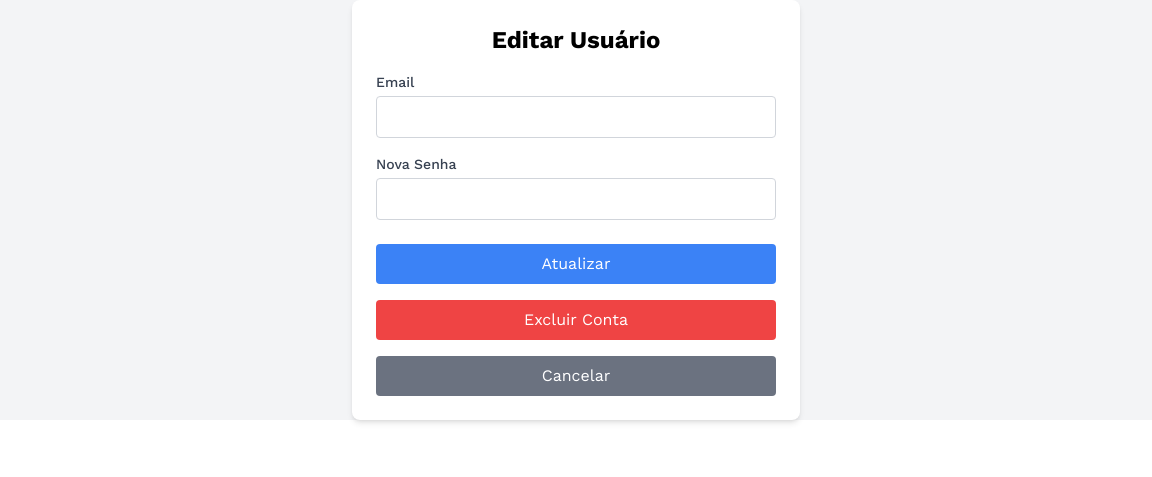
EditUser Component › Deve lidar com erro de atualização do usuário
Type "novoemail@exemplo.com" into the field labelled "Email".
click(576, 117); type("novoemail@exemplo.com")  # box top-left (376, 96), bottom-right (776, 138)
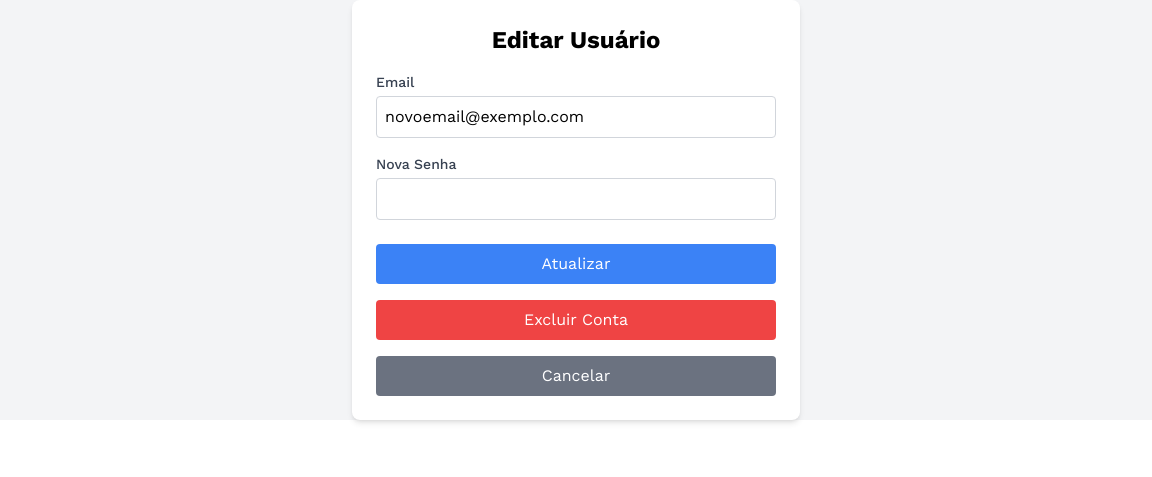
Type "novasenha" into the password field labelled "Nova Senha".
click(576, 199); type("novasenha")  # box top-left (376, 178), bottom-right (776, 220)
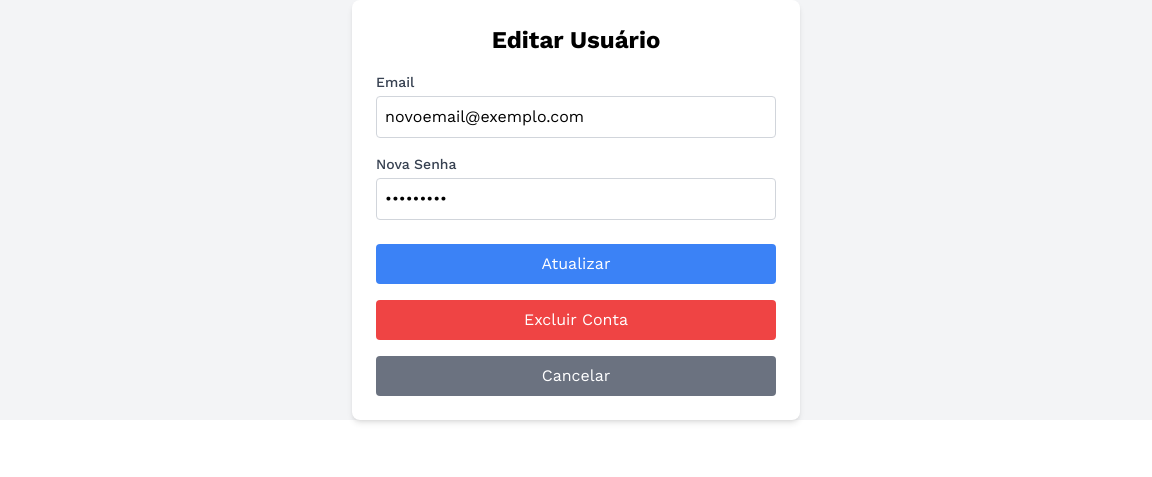
Click the button "Atualizar".
click(576, 264)  # box top-left (376, 244), bottom-right (776, 284)
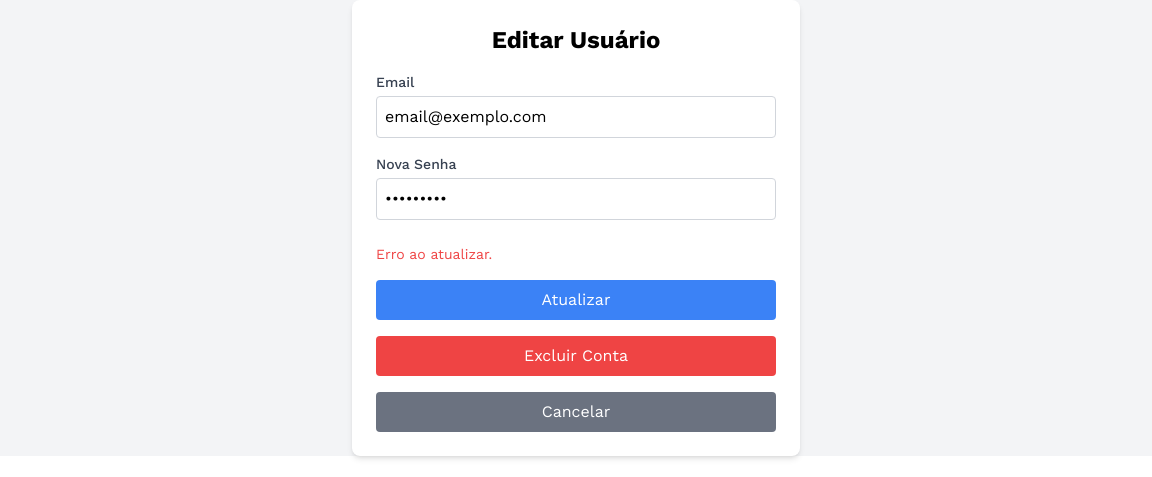
Result: the text "Erro ao atualizar." is shown at top-left (376, 246), bottom-right (492, 262)
